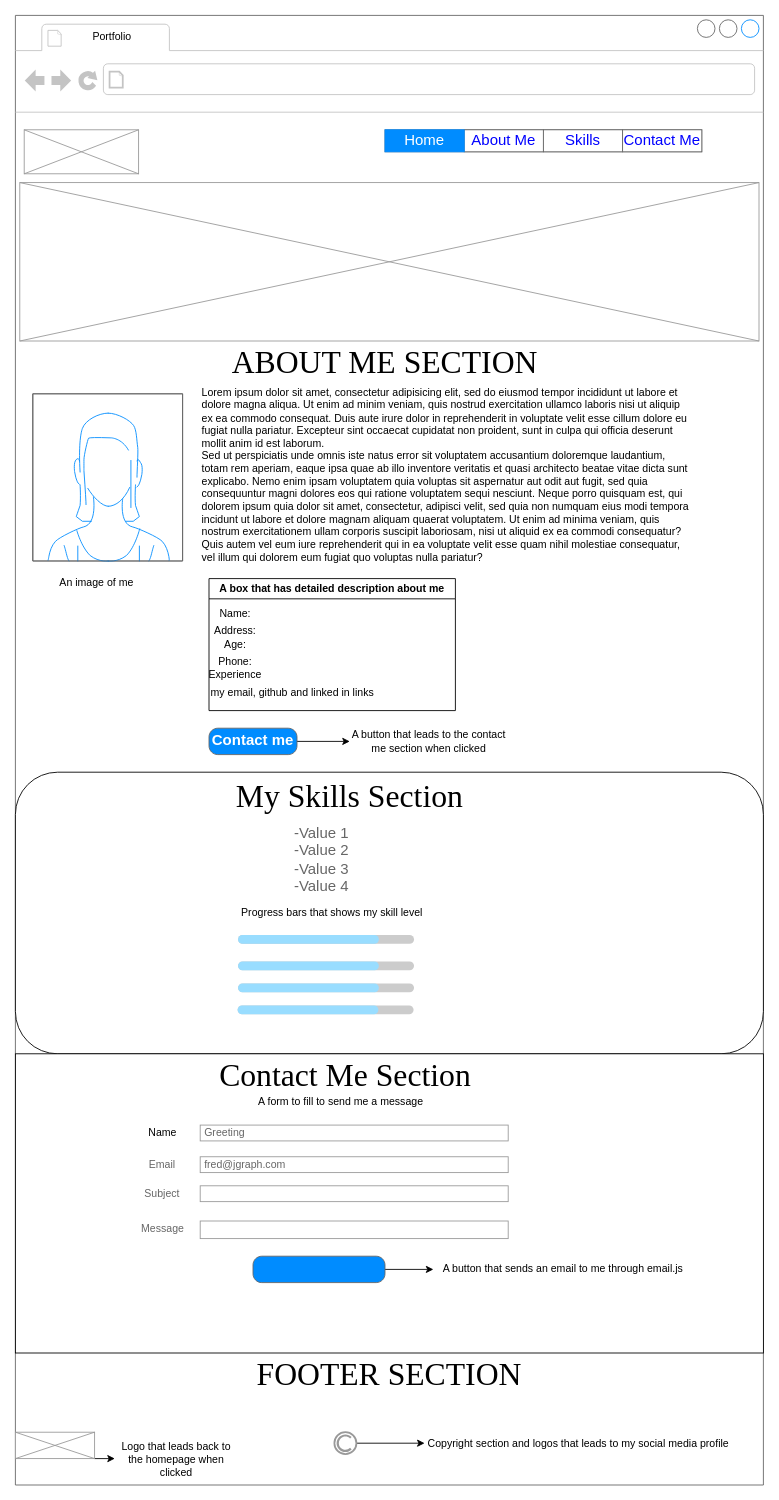
This 779x1500 diagram has some shape labels left out. Here are the shapes that lost their labels. From the top down, the centre of each, then its label:
At point 239,79: "https://oyindami01.github.io/alx_capstone_project/".
At point 81,151: "My logo".
At point 318,1269: "Send Message".
